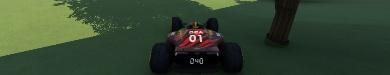Car: (148, 16, 243, 73)
grass: (0, 0, 389, 74)
obstacles-Borders: (263, 0, 300, 46)
